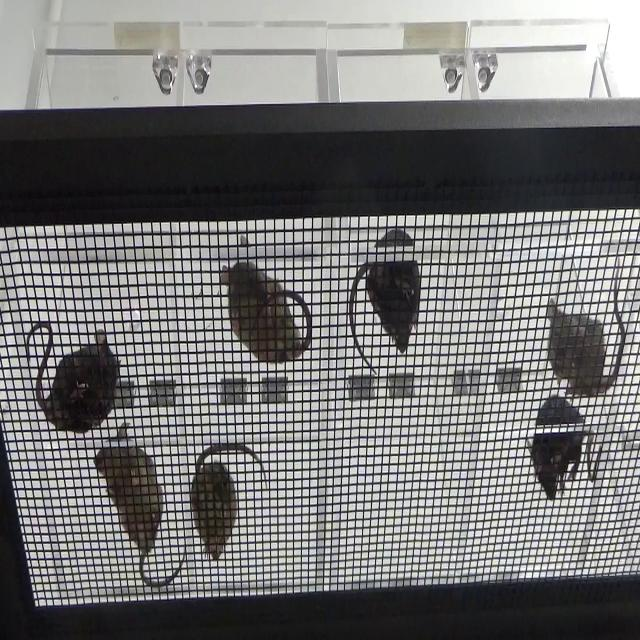scratch: (531, 272, 632, 397)
